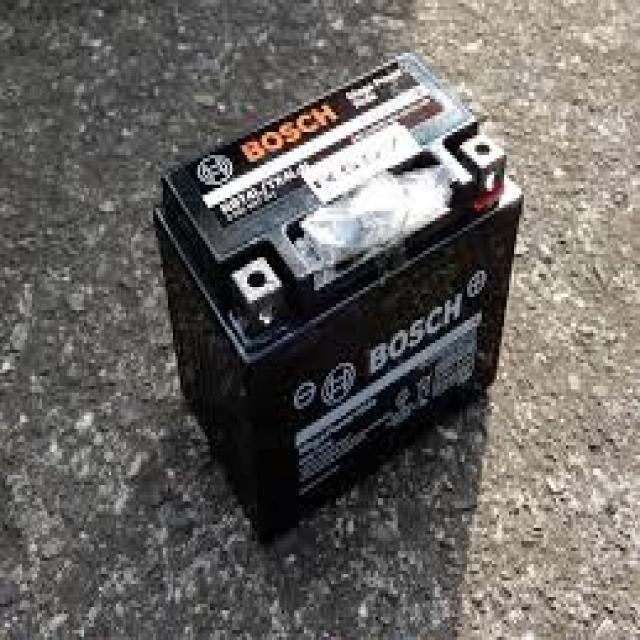Battery: (140, 39, 541, 572)
